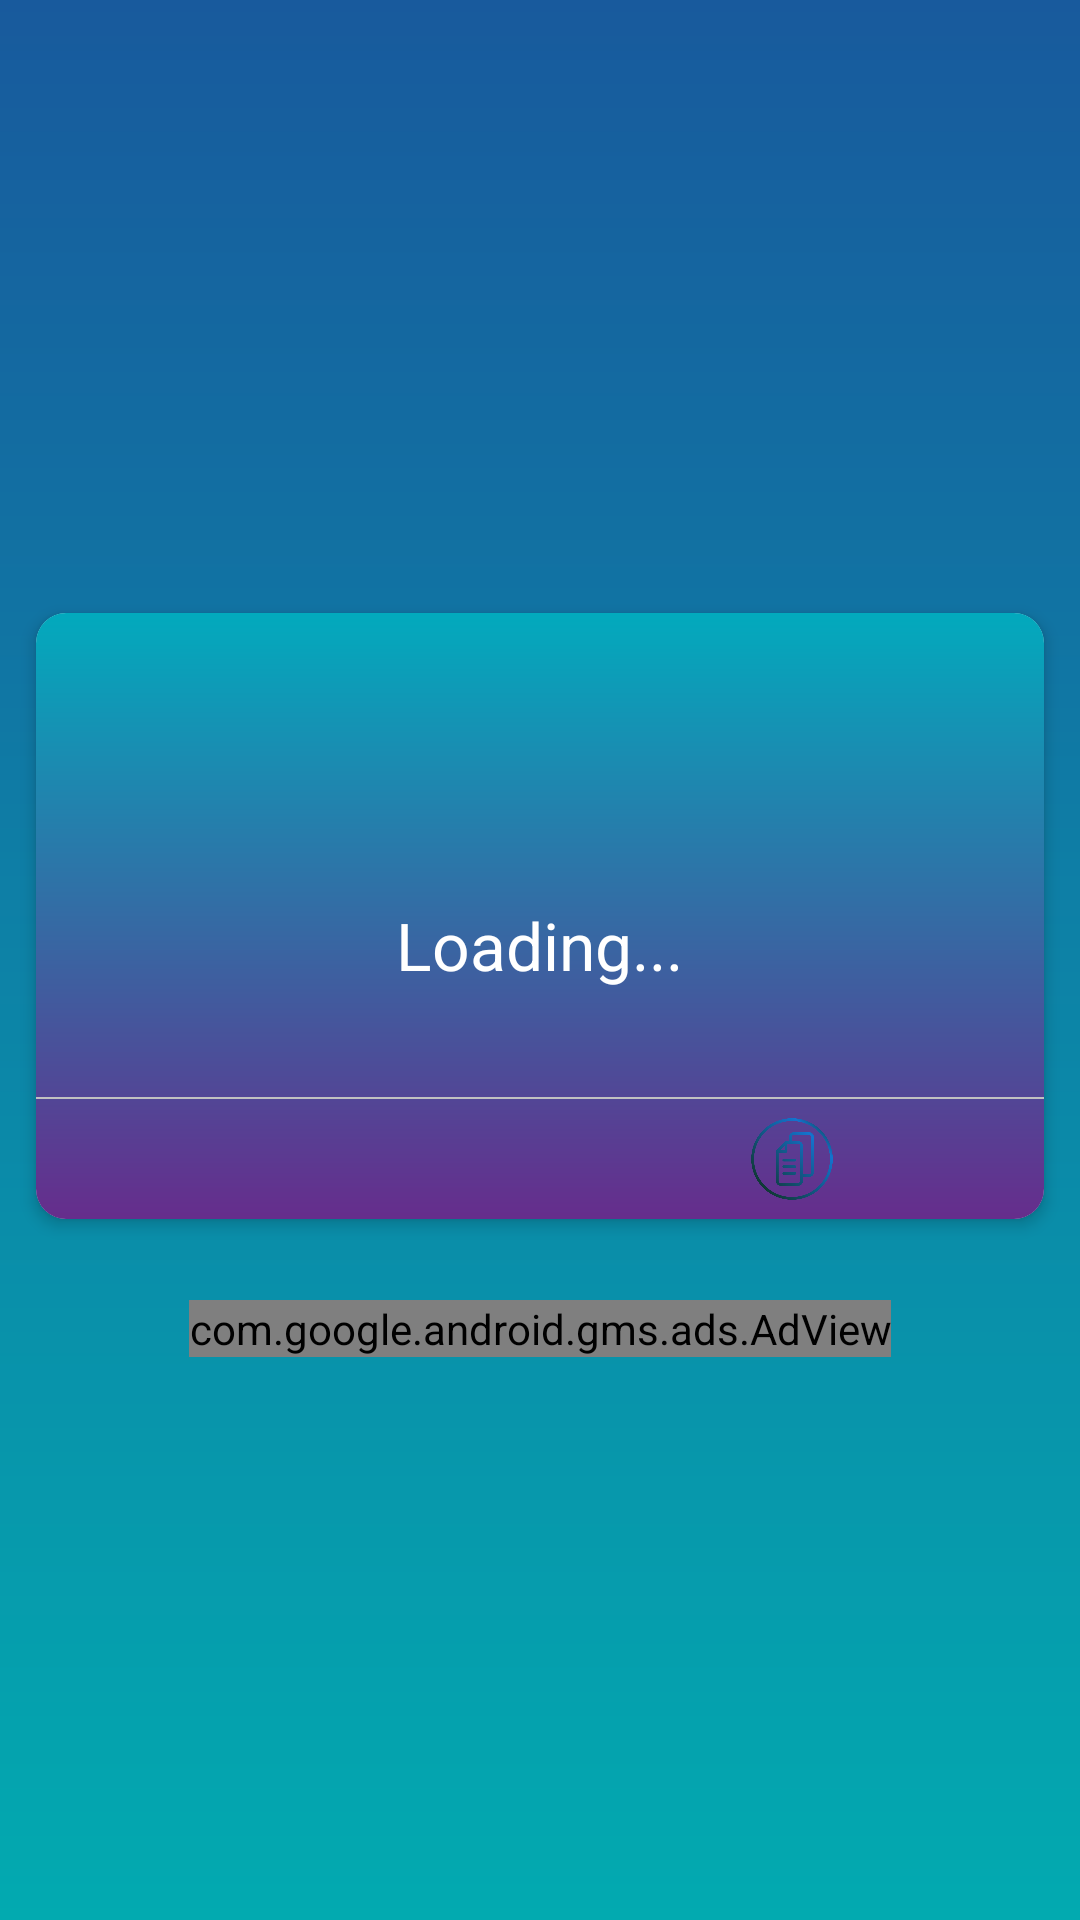

Screen size 1080px x 1920px. Icon name, then its center in pixels as (x=x, y=y):
clipboard: (x=792, y=1159)
